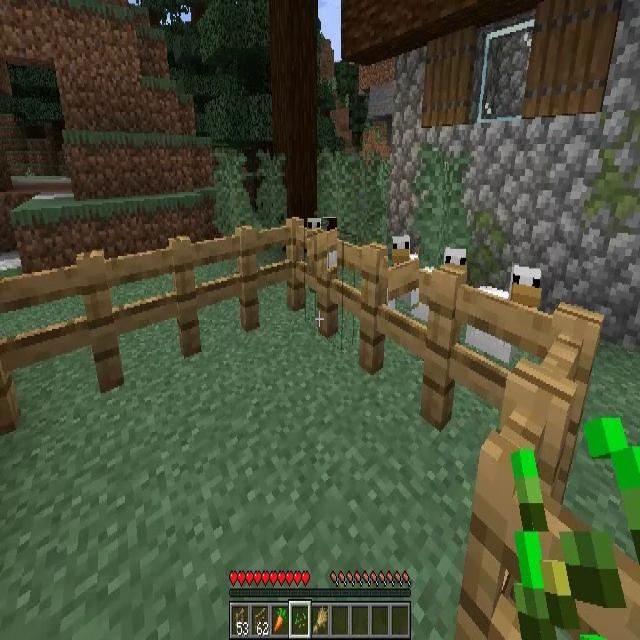duck: (468, 262, 545, 362), (426, 247, 466, 324), (388, 234, 419, 309), (307, 218, 337, 274)
